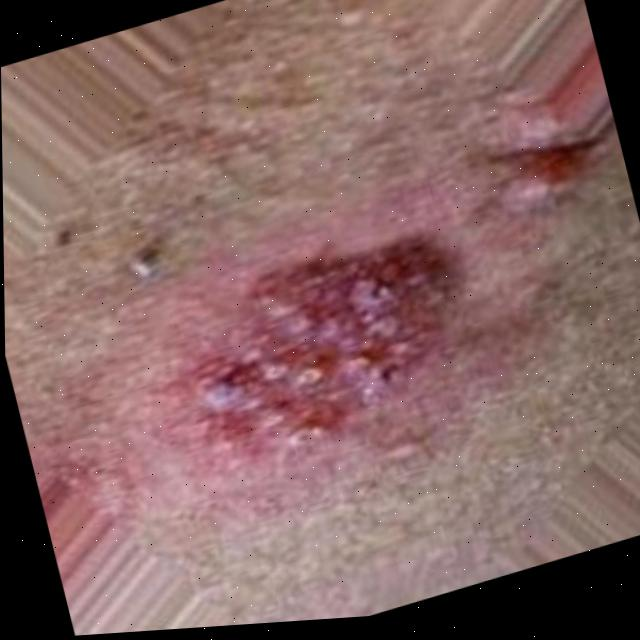Shingles: (171, 205, 487, 461)
